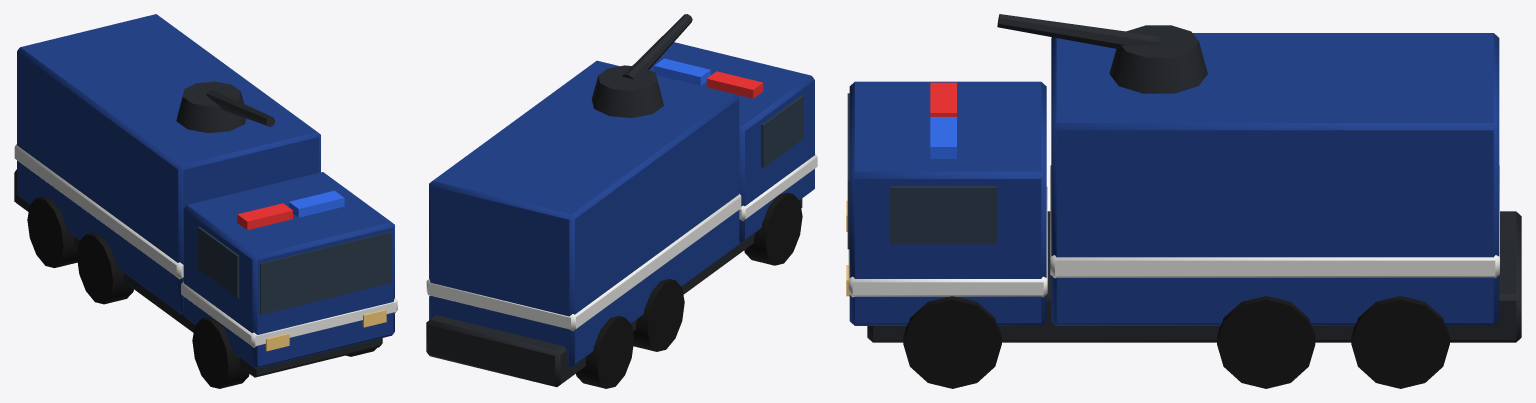
Rendered from police_truck.fbx.
3 views of the same model, side by side, from view 1: azimuth 30°, elevation 25°; view 2: azimuth 150°, elevation 25°; view 3: azimuth 270°, elevation 25° (orthographic). The views are drawn at different scales.
Parts seen in each view (by area): view 1: police_truck; view 2: police_truck; view 3: police_truck.
Boxes of the visible parts, bbox=[...] form: police_truck: bbox=[14, 14, 397, 388]; police_truck: bbox=[426, 14, 817, 388]; police_truck: bbox=[846, 14, 1521, 388].
Bounding box in the file's own units: 2.7 × 3.99 × 7.54.
